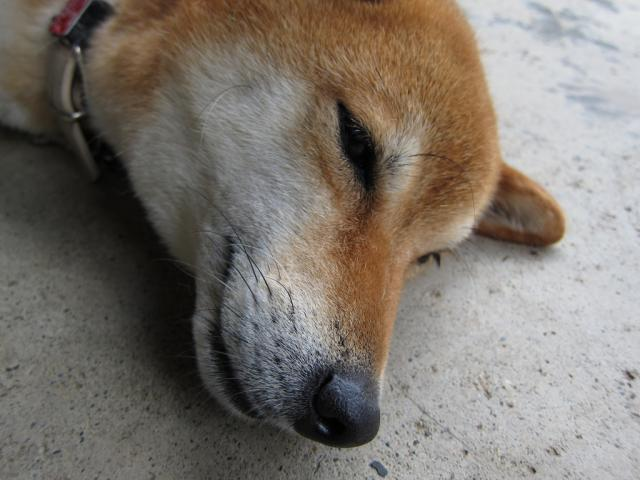Dog: (0, 0, 568, 450)
